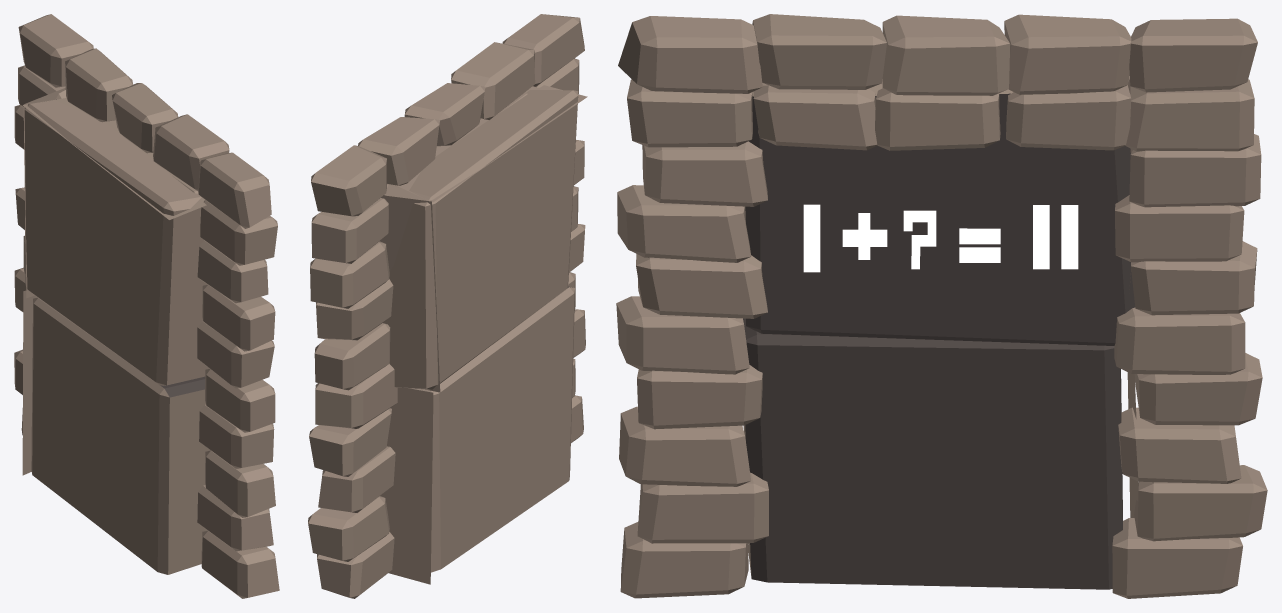
File: Puzzle Wall 1.fbx
The picture shows the model from 3 angles, left to right: view 1: azimuth 30°, elevation 25°; view 2: azimuth 150°, elevation 25°; view 3: azimuth 270°, elevation 25°; orthographic projection. The views are drawn at different scales.
Visible parts, largest first — view 1: Puzzle Wall.002; view 2: Puzzle Wall.002; view 3: Puzzle Wall.002.
Part boxes in pixels (bbox=[...]): Puzzle Wall.002: bbox=[14, 14, 279, 598]; Puzzle Wall.002: bbox=[308, 14, 587, 598]; Puzzle Wall.002: bbox=[616, 14, 1267, 598].
Size of the model in its own units: 407 by 2057 by 2153.
